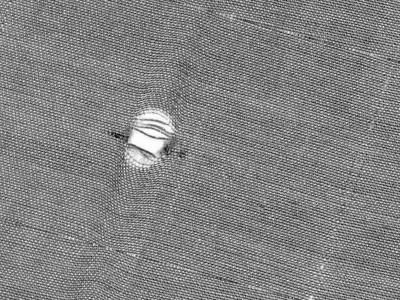hole: (120, 104, 178, 173)
